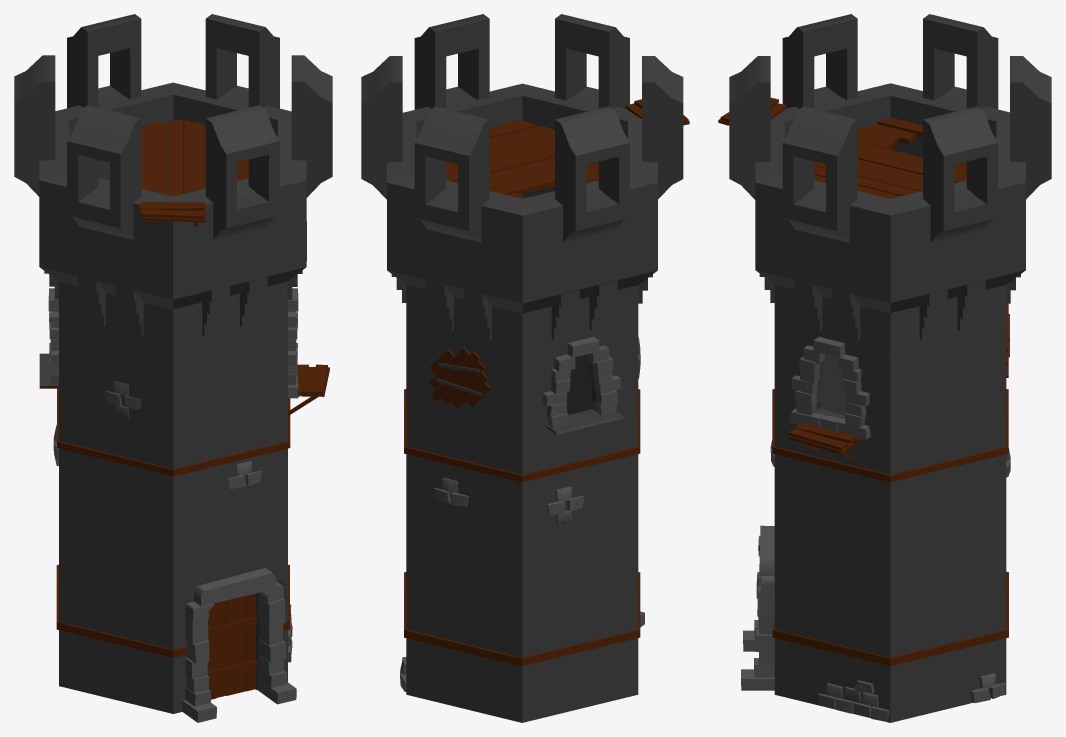
The model's file is Torre.FBX.
3 renders of one model, left to right at view 1: azimuth 30°, elevation 25°; view 2: azimuth 150°, elevation 25°; view 3: azimuth 270°, elevation 25°, orthographic.
Visible parts, largest first — view 1: Torre; view 2: Torre; view 3: Torre.
Part boxes in pixels (bbox=[...]): Torre: bbox=[14, 14, 332, 722]; Torre: bbox=[361, 14, 689, 722]; Torre: bbox=[718, 14, 1051, 722].
Size of the model in its own units: 223 by 470 by 238.
